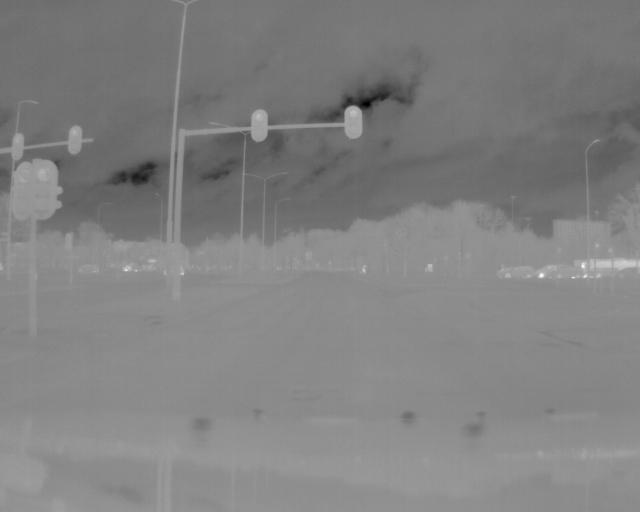car: (494, 262, 535, 283), (540, 265, 571, 279)
